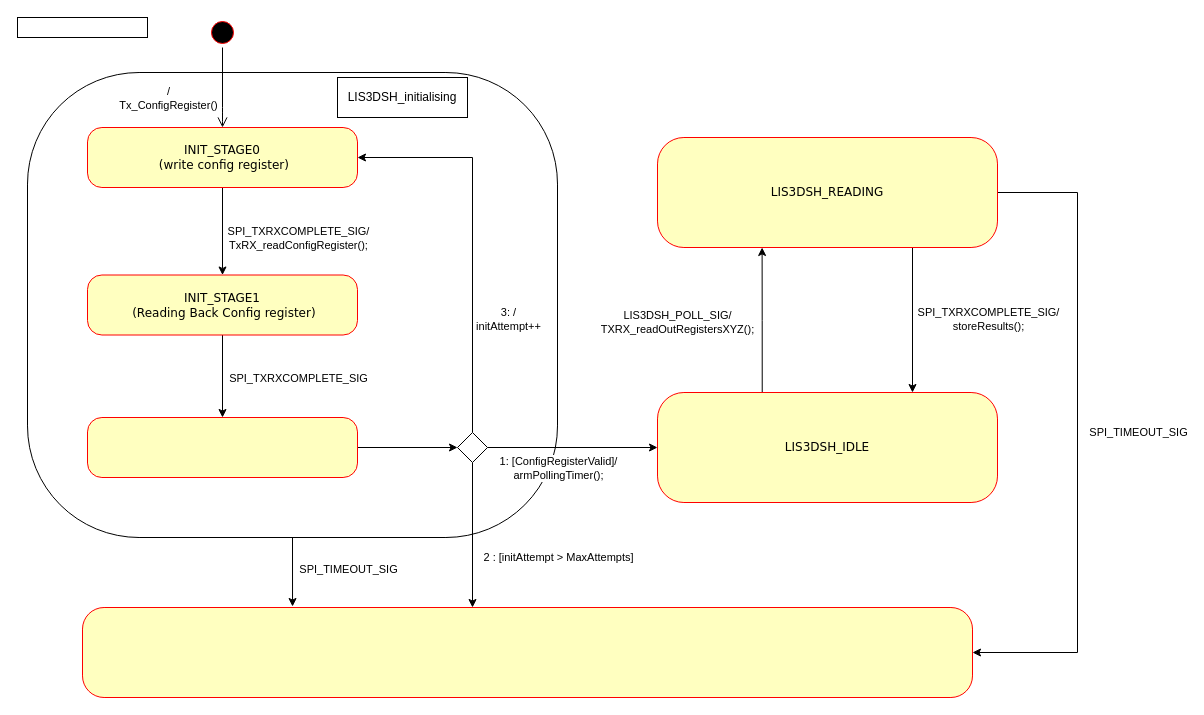
The diagram is 1204 pixels wide and 715 high, and some of its shapes have lost their labels. Here are the shapes that lost their labels. From the top down, the centre of each, then its label:
At [82,27]: "LIS3DSH.c".
At [222,447]: "INIT_STAGE2 (Validate config register)".
At [527,652]: "LIS3DSH_FAULT".
